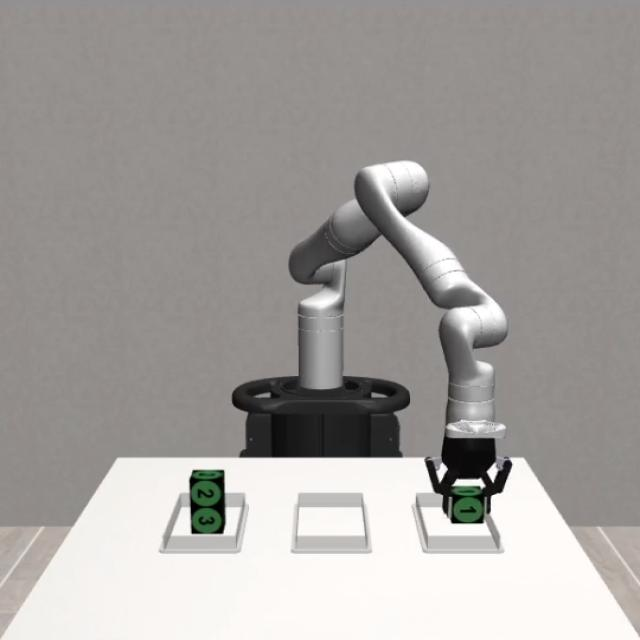cube1: (450, 485, 486, 524)
cube2: (190, 470, 226, 505)
cube3: (191, 502, 225, 534)
